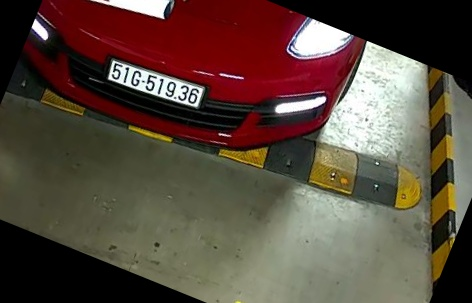plate: (104, 58, 209, 112)
